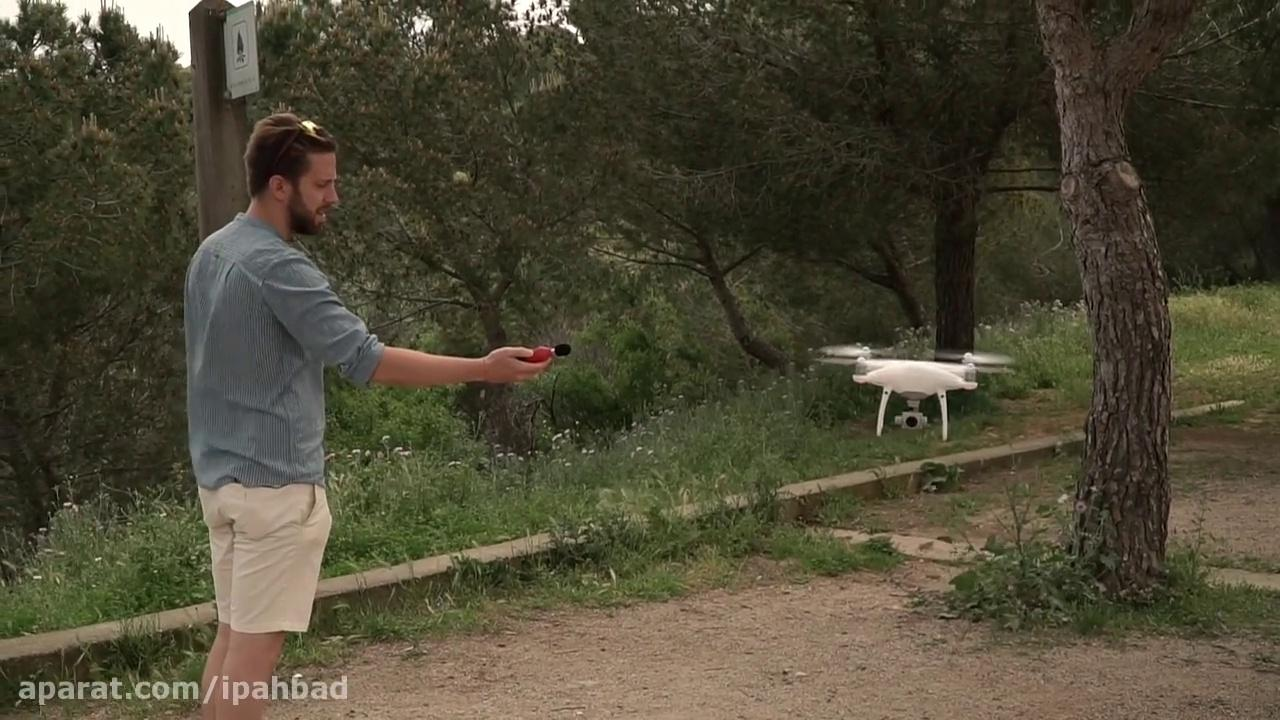drone: (812, 339, 1024, 443)
